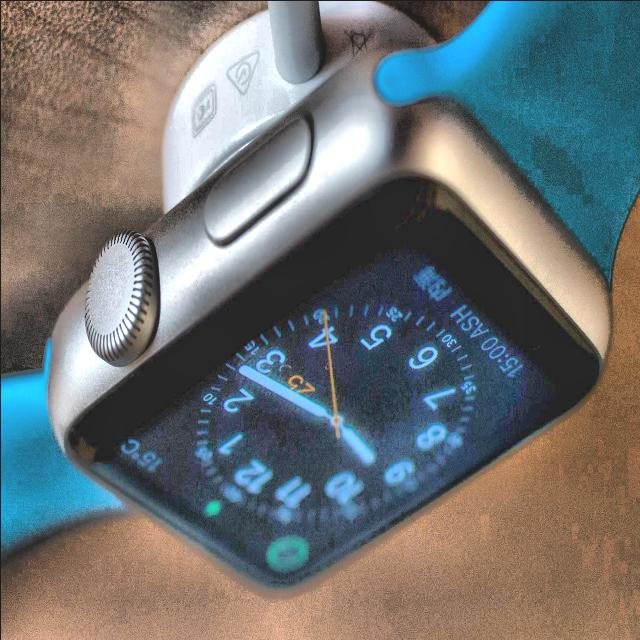Electronic watch: (0, 1, 640, 588)
